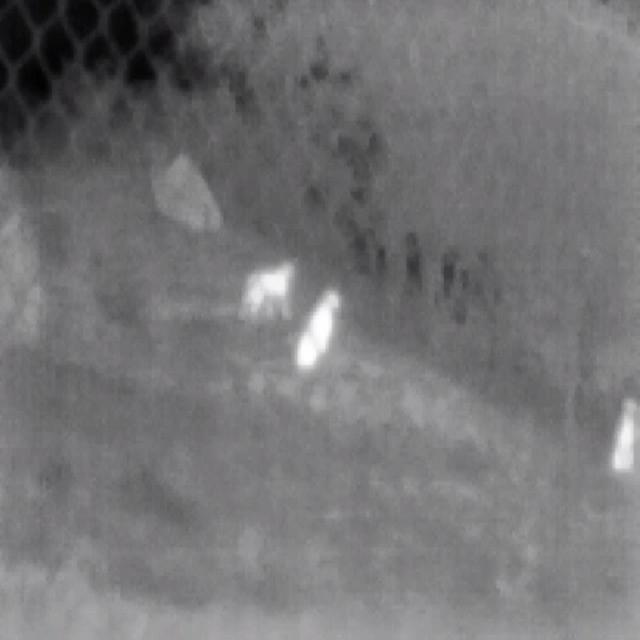cheetah: (297, 290, 341, 366), (241, 260, 299, 317), (613, 403, 638, 469)
